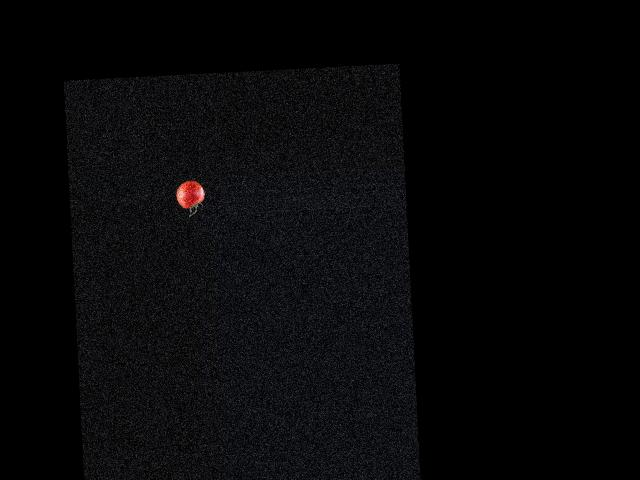tomato: (175, 180, 204, 209)
